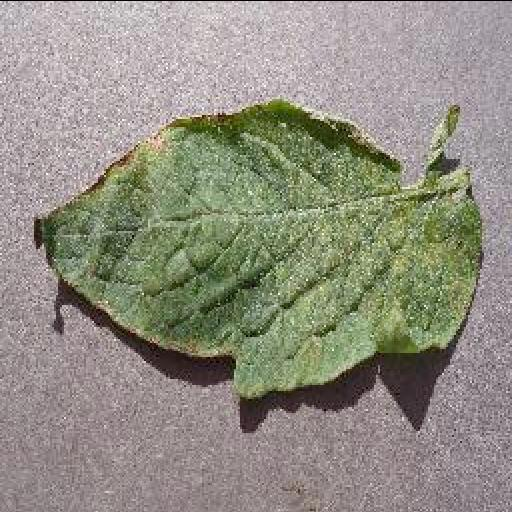disease_tomato: (32, 100, 482, 394)
